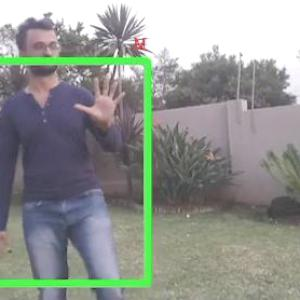follow_hand: (72, 67, 130, 128)
